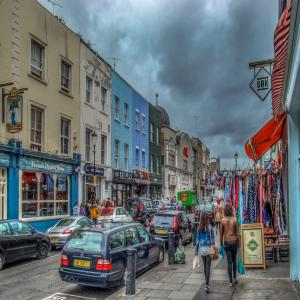Vehicle-registration-plate: (75, 260, 92, 268)
